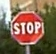stop: (9, 10, 44, 45)
